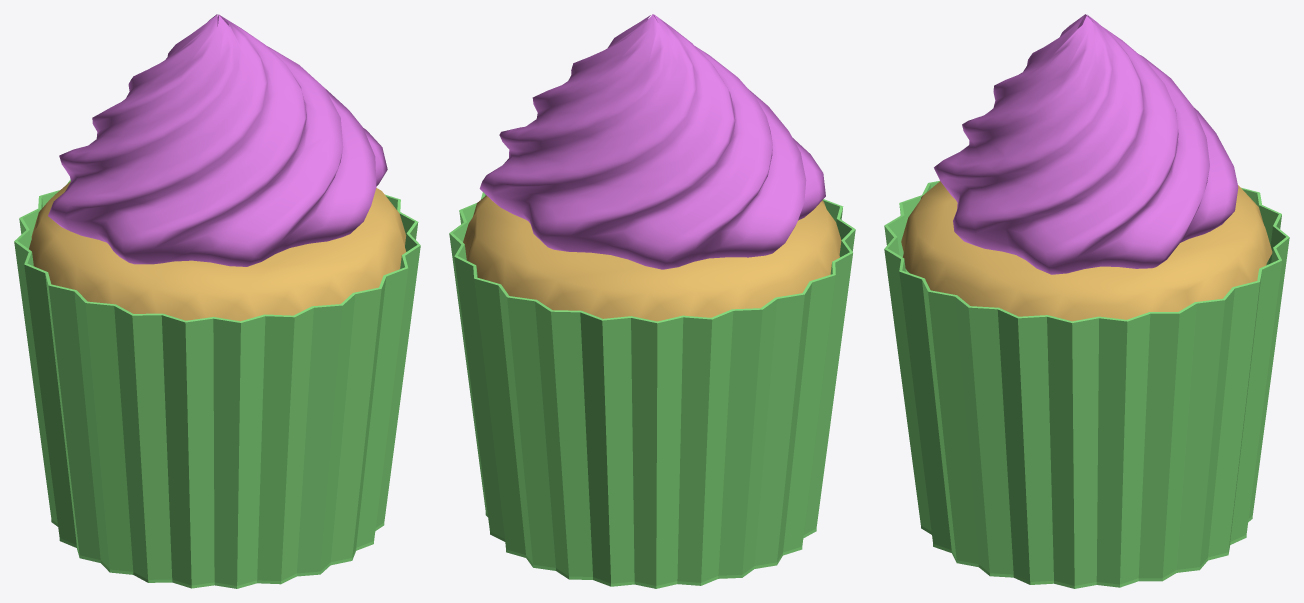
Rendered from Cupcake.fbx.
3 views of the same model, side by side, from view 1: azimuth 30°, elevation 25°; view 2: azimuth 150°, elevation 25°; view 3: azimuth 270°, elevation 25° (orthographic).
Visible parts, largest first — view 1: Cupcake; view 2: Cupcake; view 3: Cupcake.
Part boxes in pixels (left/top/right/bottom): Cupcake: left=14, top=14, right=420, bottom=588; Cupcake: left=449, top=14, right=855, bottom=588; Cupcake: left=884, top=14, right=1289, bottom=588.
Bounding box in the file's own units: 33.44 × 45.9 × 33.36.
